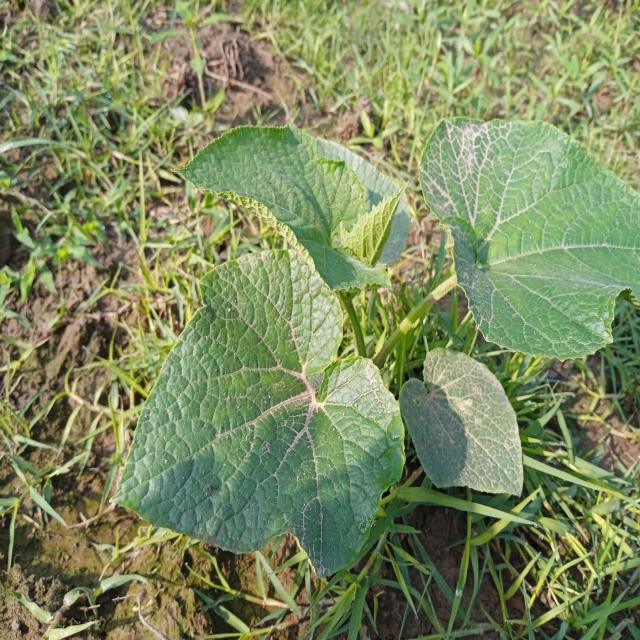cucumber_healthy: (104, 243, 410, 586), (413, 95, 640, 360), (176, 106, 420, 298), (401, 339, 534, 517)
